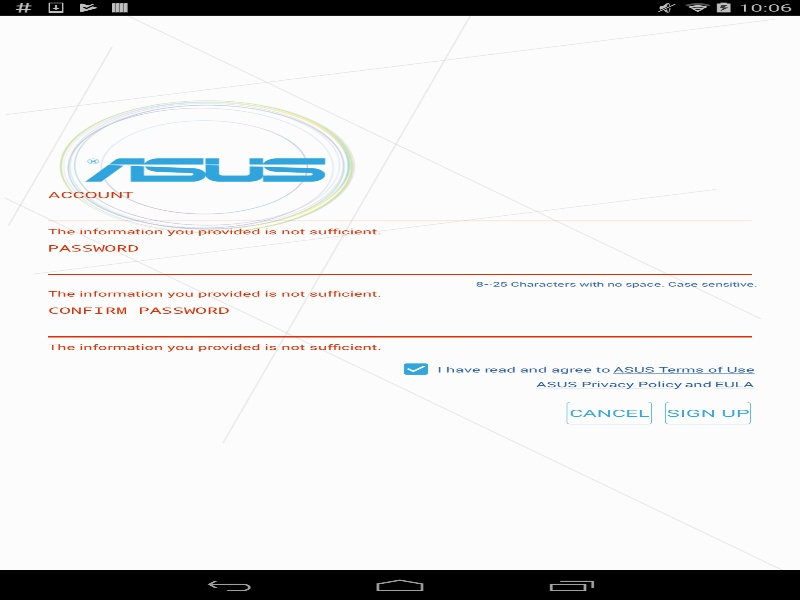Button: (566, 401, 652, 424), (665, 401, 750, 424)
Input: (42, 197, 757, 226), (42, 251, 757, 279), (42, 313, 757, 341)
